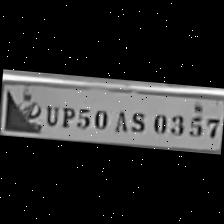0: (90, 104, 111, 132), (150, 109, 169, 135)
3: (166, 108, 186, 136)
5: (74, 104, 94, 132), (186, 108, 204, 138)
7: (202, 110, 222, 139)
A: (110, 105, 128, 134)
P: (58, 102, 76, 130)
S: (124, 106, 146, 134)
U: (42, 99, 59, 128)
